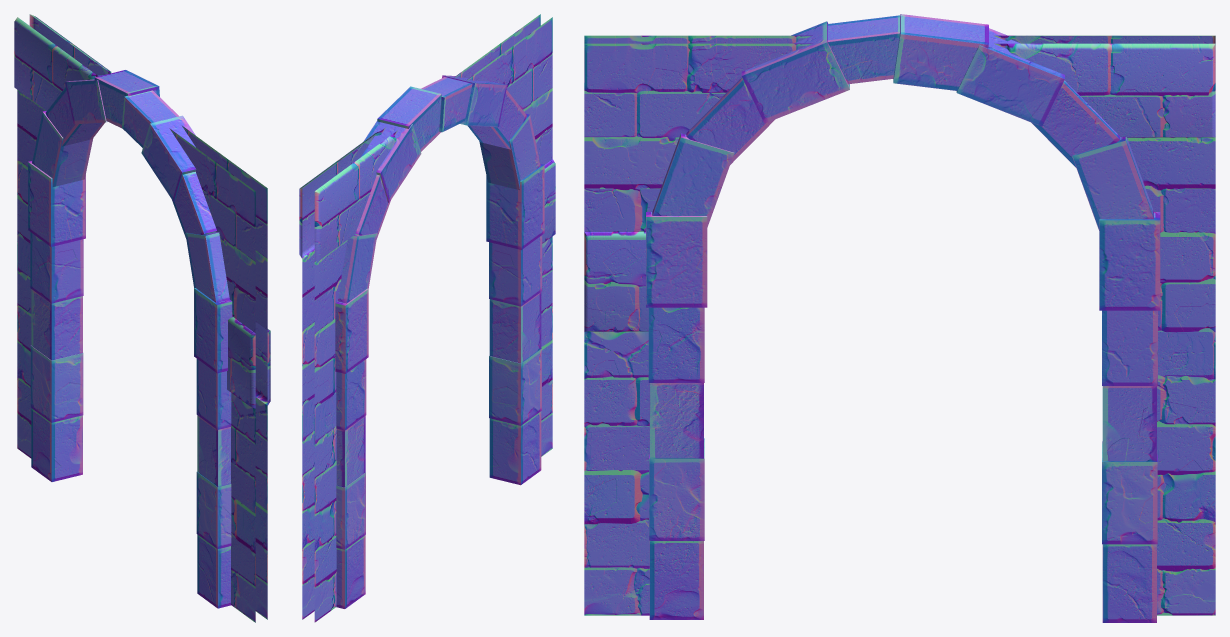
Rendered from Dungeon_WallDoorwayBricksSmall.fbx.
3 renders of one model, left to right at view 1: azimuth 30°, elevation 25°; view 2: azimuth 150°, elevation 25°; view 3: azimuth 270°, elevation 25°, orthographic. The views are drawn at different scales.
Parts seen in each view (by area): view 1: CDTMesh_Wall, CDTMesh_Doorway2, CDTMesh_Doorway; view 2: CDTMesh_Doorway, CDTMesh_Wall, CDTMesh_Doorway2; view 3: CDTMesh_Wall, CDTMesh_Doorway, CDTMesh_Doorway2.
Boxes of the visible parts, box(x1,y1,x2,y2) form: CDTMesh_Wall: box(14, 14, 270, 622); CDTMesh_Doorway2: box(30, 77, 232, 603); CDTMesh_Doorway: box(28, 70, 232, 608); CDTMesh_Doorway: box(335, 75, 544, 608); CDTMesh_Wall: box(299, 14, 555, 622); CDTMesh_Doorway2: box(335, 82, 542, 604); CDTMesh_Wall: box(584, 35, 1215, 615); CDTMesh_Doorway: box(646, 14, 1160, 622); CDTMesh_Doorway2: box(651, 17, 1154, 617).
Size of what is drawn, in the model's own units: 0.3874 by 4.12 by 4.
